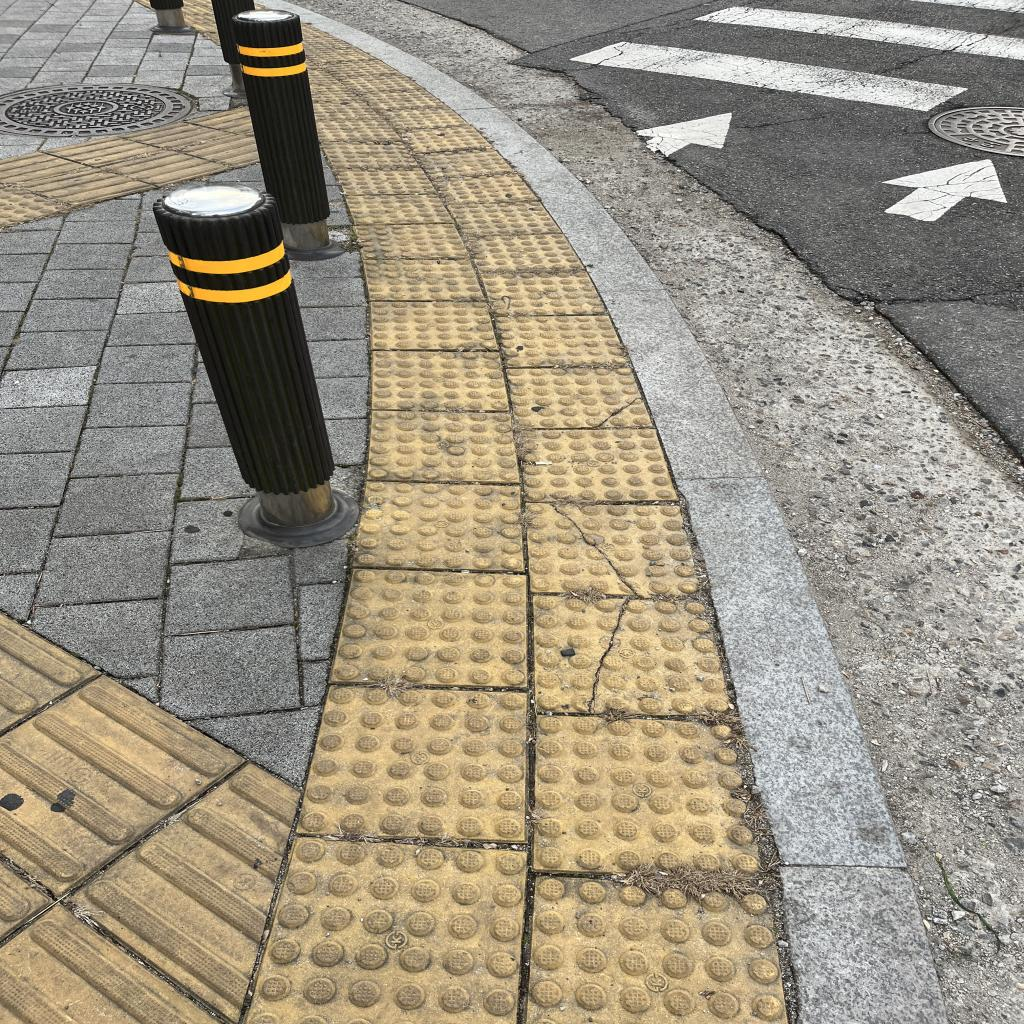Stop block broken: (534, 596, 730, 714), (526, 503, 701, 595)
Stop block normal: (534, 716, 768, 876), (331, 570, 532, 689), (367, 411, 520, 482), (495, 315, 629, 366)
